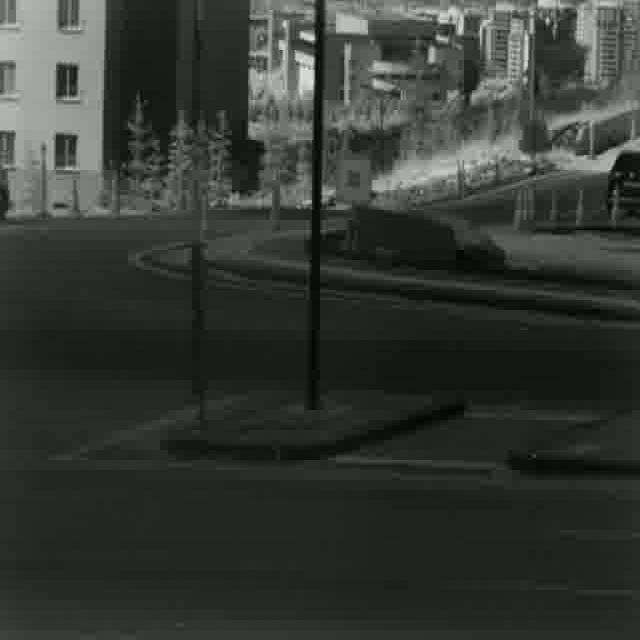Car: (604, 147, 640, 222)
